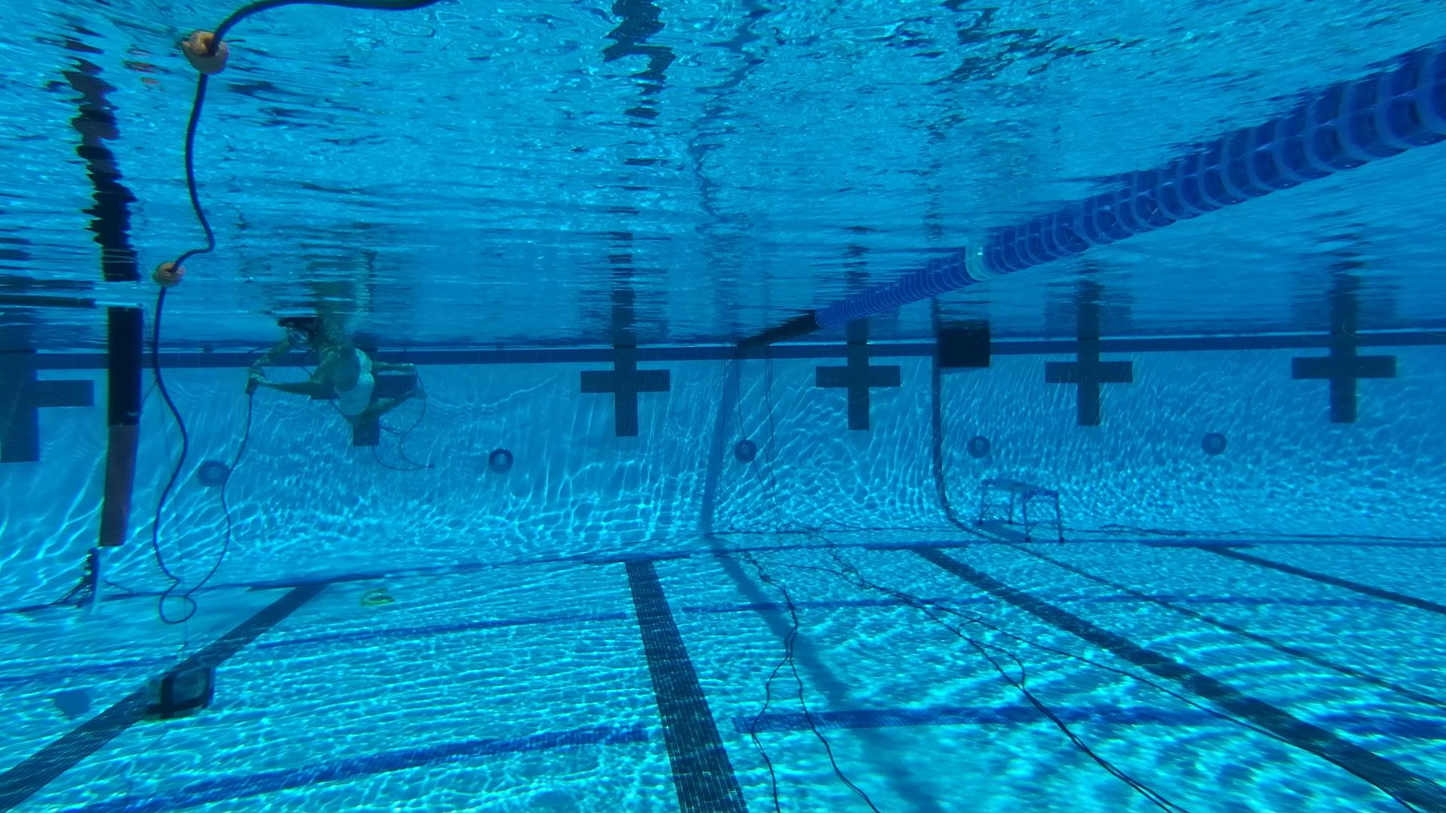buoy: (178, 28, 229, 75)
path: (984, 472, 1072, 543)
